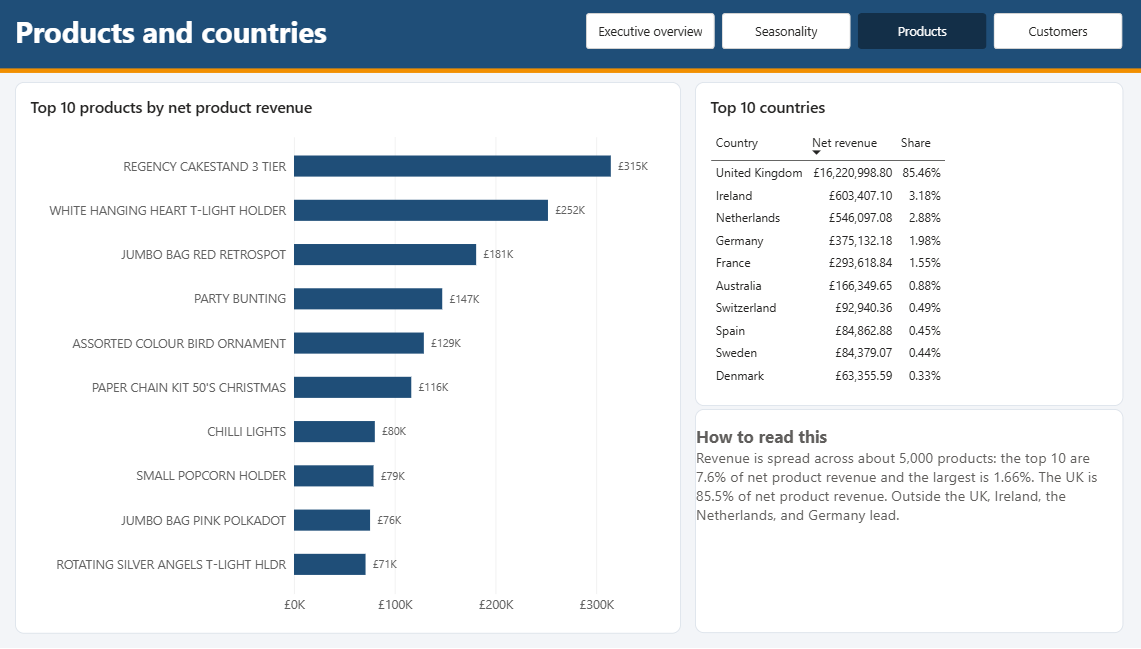

The page's visual inventory and layout, read from the dashboard file:
{"tool":"powerbi","page":{"name":"Products","canvas":[1920,1080],"ordinal":2},"visuals":[{"type":"clusteredBarChart","title":"Top 10 products by net product revenue","fields":{"Category":["dim_product.product_label"],"Y":["_Measures.Net Product Revenue"]},"box":[341.2,268.8,740,612.5],"z":0},{"type":"tableEx","title":"Top 10 countries","fields":{"Values":["dim_country.standard_country","_Measures.Net Product Revenue","_Measures.Country Share %"]},"box":[1096.2,268.8,476,360],"z":1000},{"type":"textbox","box":[1096.2,632.5,476.2,248.8],"z":2000},{"type":"textbox","box":[341,190,600,48],"z":3000},{"type":"pageNavigator","box":[976,192,596,40],"z":4000}]}

Visuals, with their boxes in screenshot pixels (x1, y1, x2, y2), scaled from the page's 1920x1080 canvas onto the 1141x649 screenshot:
"Top 10 products by net product revenue" clusteredBarChart: pyautogui.locateOnScreen(203, 162, 643, 530)
"Top 10 countries" tableEx: pyautogui.locateOnScreen(651, 162, 934, 378)
textbox: pyautogui.locateOnScreen(651, 380, 934, 530)
textbox: pyautogui.locateOnScreen(203, 114, 559, 143)
pageNavigator: pyautogui.locateOnScreen(580, 115, 934, 139)
